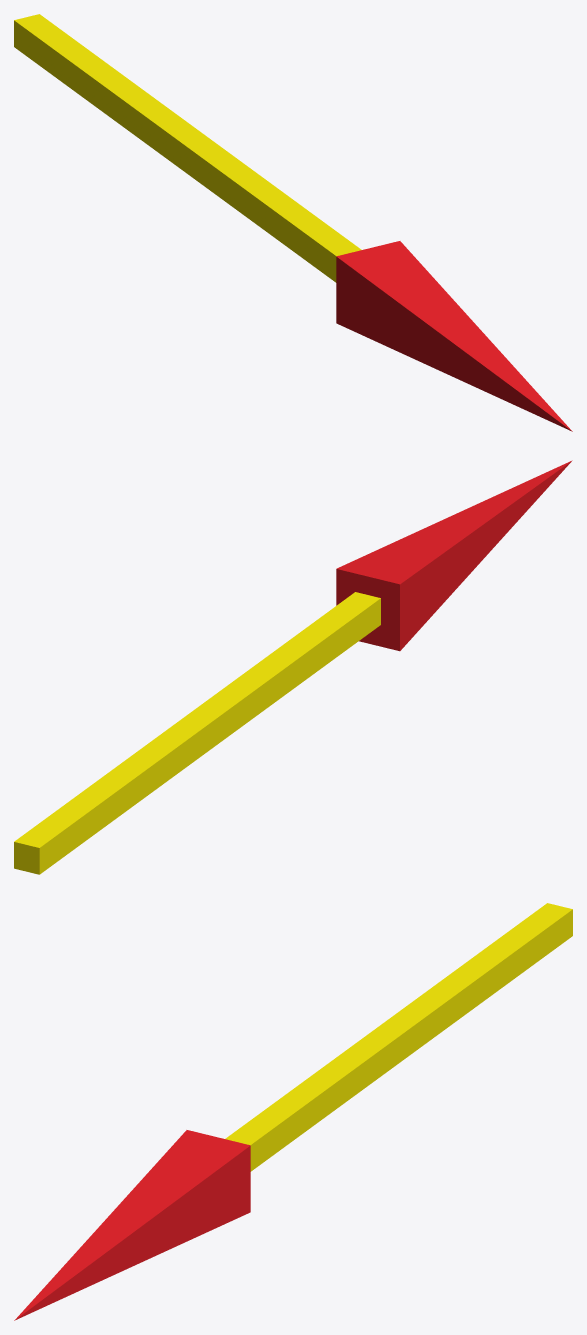
Rendered from vectormodel.fbx.
The picture shows the model from 3 angles, top to bottom: view 1: azimuth 30°, elevation 25°; view 2: azimuth 150°, elevation 25°; view 3: azimuth 330°, elevation 25°; orthographic projection.
Parts seen in each view (by area): view 1: Box001, Pyramid001; view 2: Box001, Pyramid001; view 3: Box001, Pyramid001.
Boxes of the visible parts, x1,y1,x2,y2 form: Box001: (14, 14, 361, 282); Pyramid001: (336, 241, 572, 431); Box001: (14, 592, 380, 874); Pyramid001: (336, 460, 572, 651); Box001: (225, 903, 572, 1171); Pyramid001: (14, 1130, 250, 1320).
Size of the model in its own units: 3.42 by 50.65 by 3.42.
Materials: 2 (2 with a texture image).
